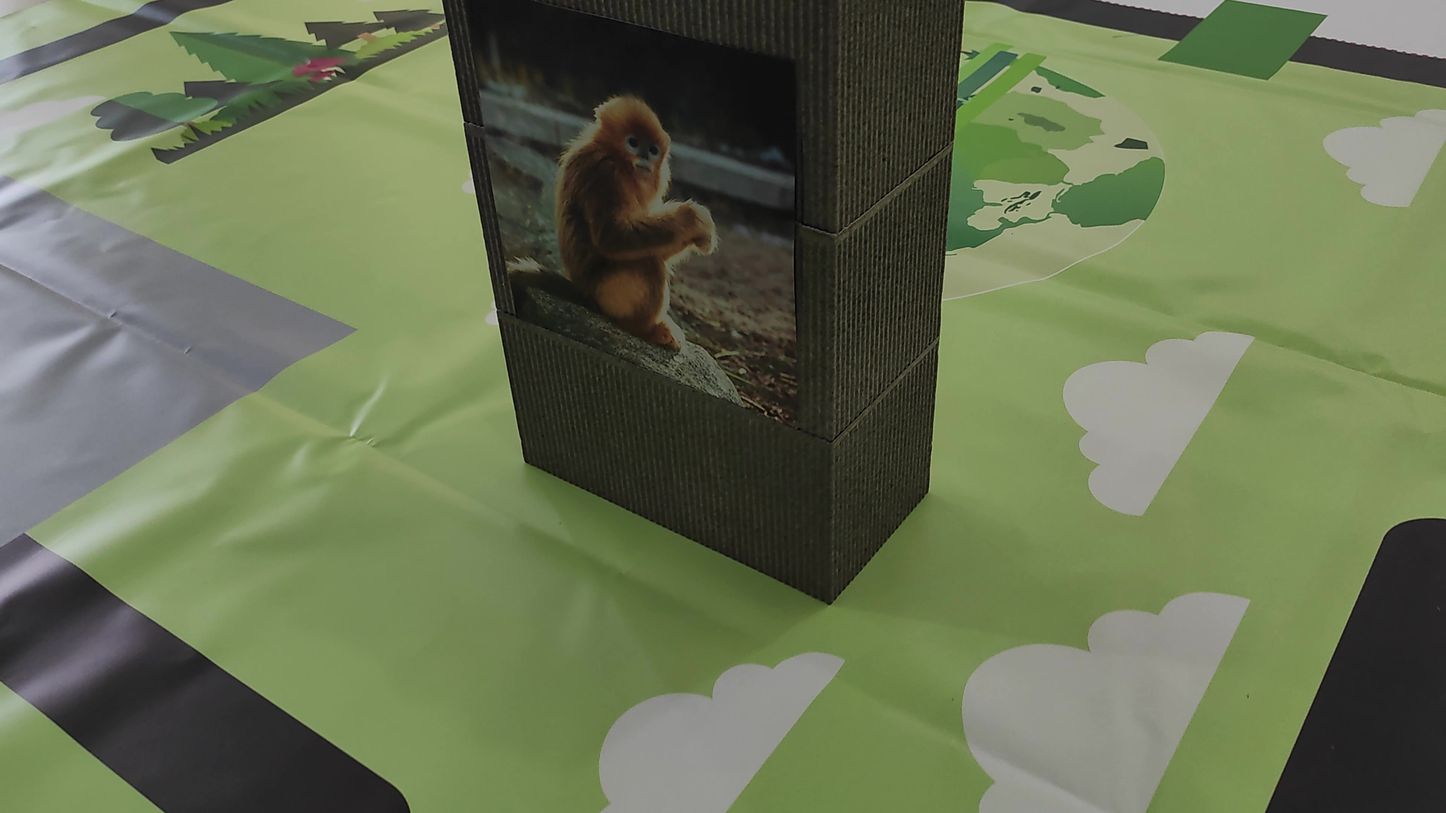monkey: (528, 96, 769, 371)
